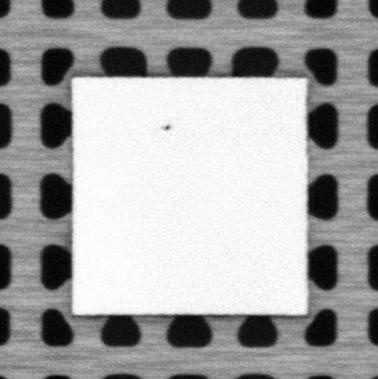DIE_INK: (161, 122, 171, 132)
